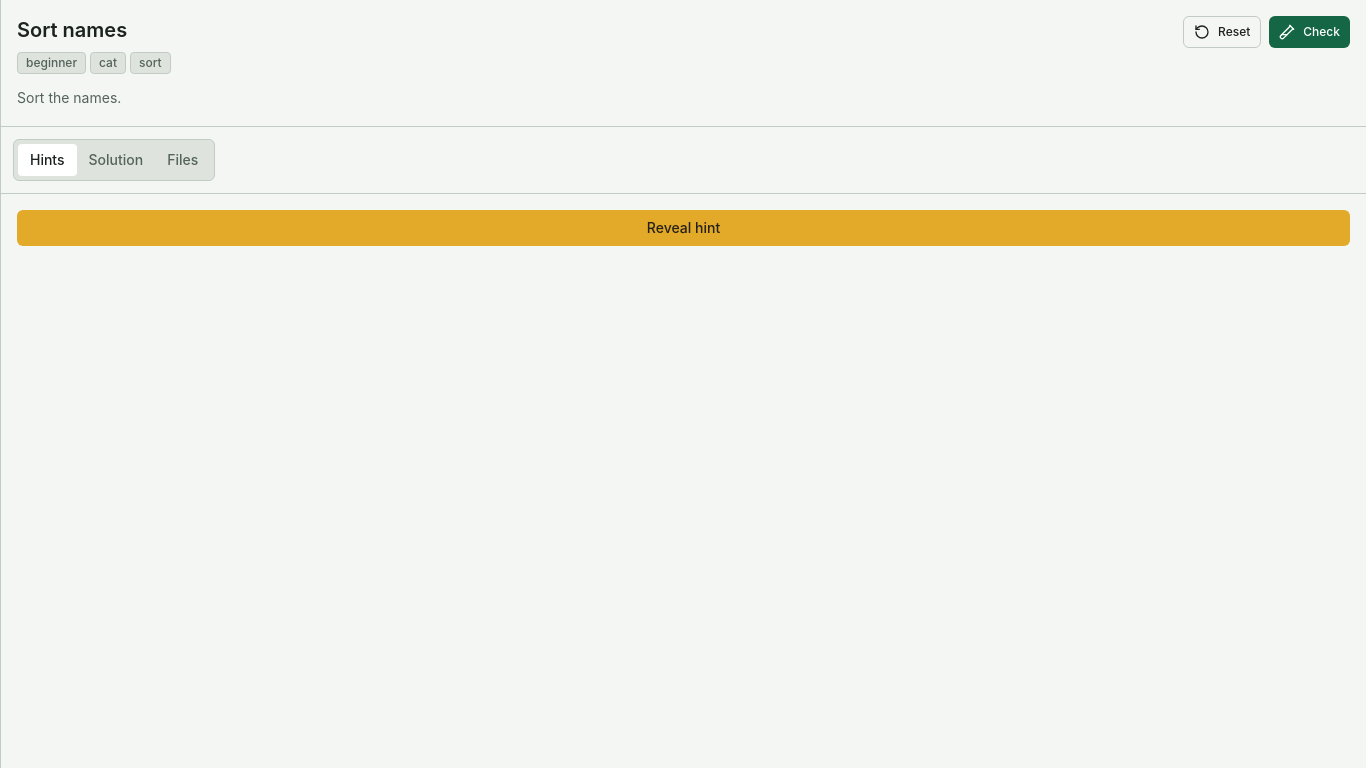
Test: LessonDetail › reveals hints incrementally
This screenshot has width=1366, height=768.
Expected: the text "Use cat first." is not shown
Click the button "Reveal hint" at (684, 228), box x1=17 y1=210 x2=1350 y2=246
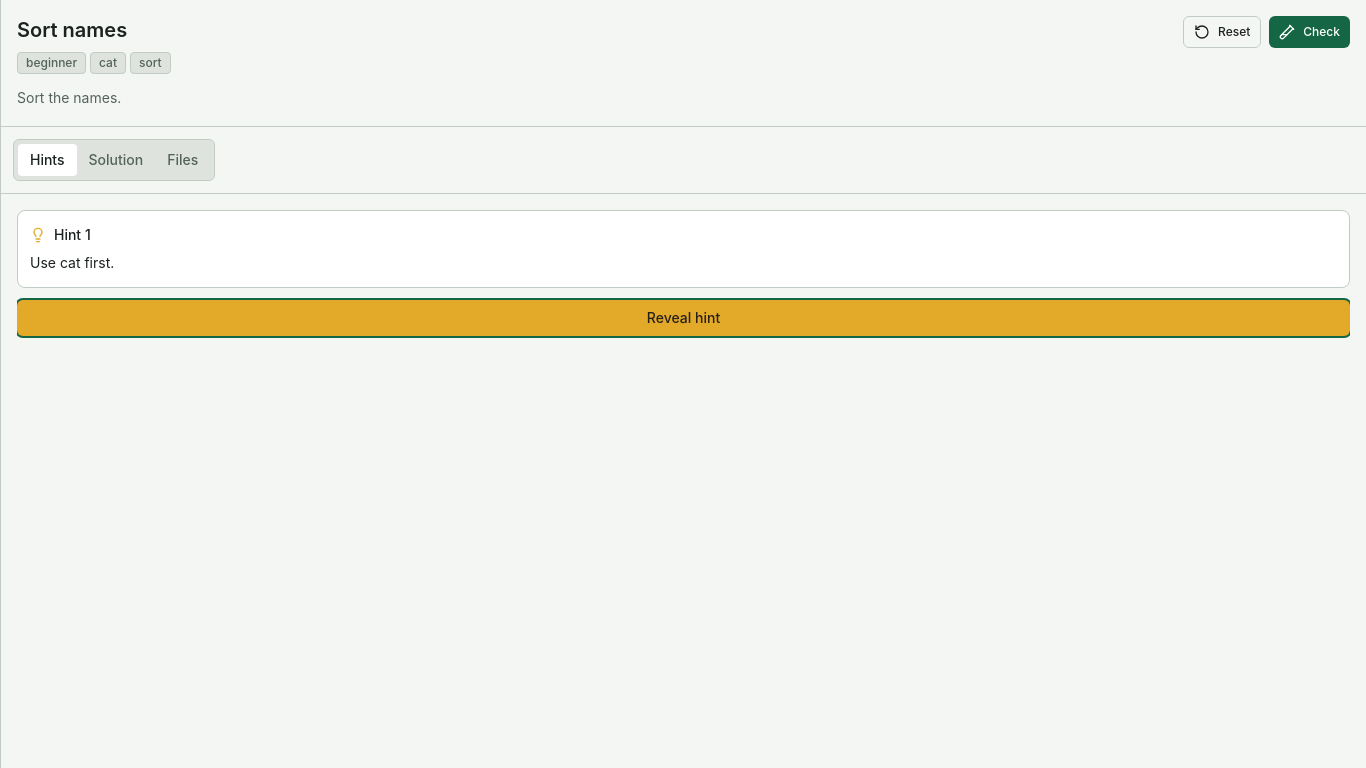
Expected: the text "Pipe into sort." is not shown
Expected: the text "Use cat first." is shown, x1=30 y1=254 x2=114 y2=271
Click the button "Reveal hint" at (684, 318), box x1=17 y1=300 x2=1350 y2=336
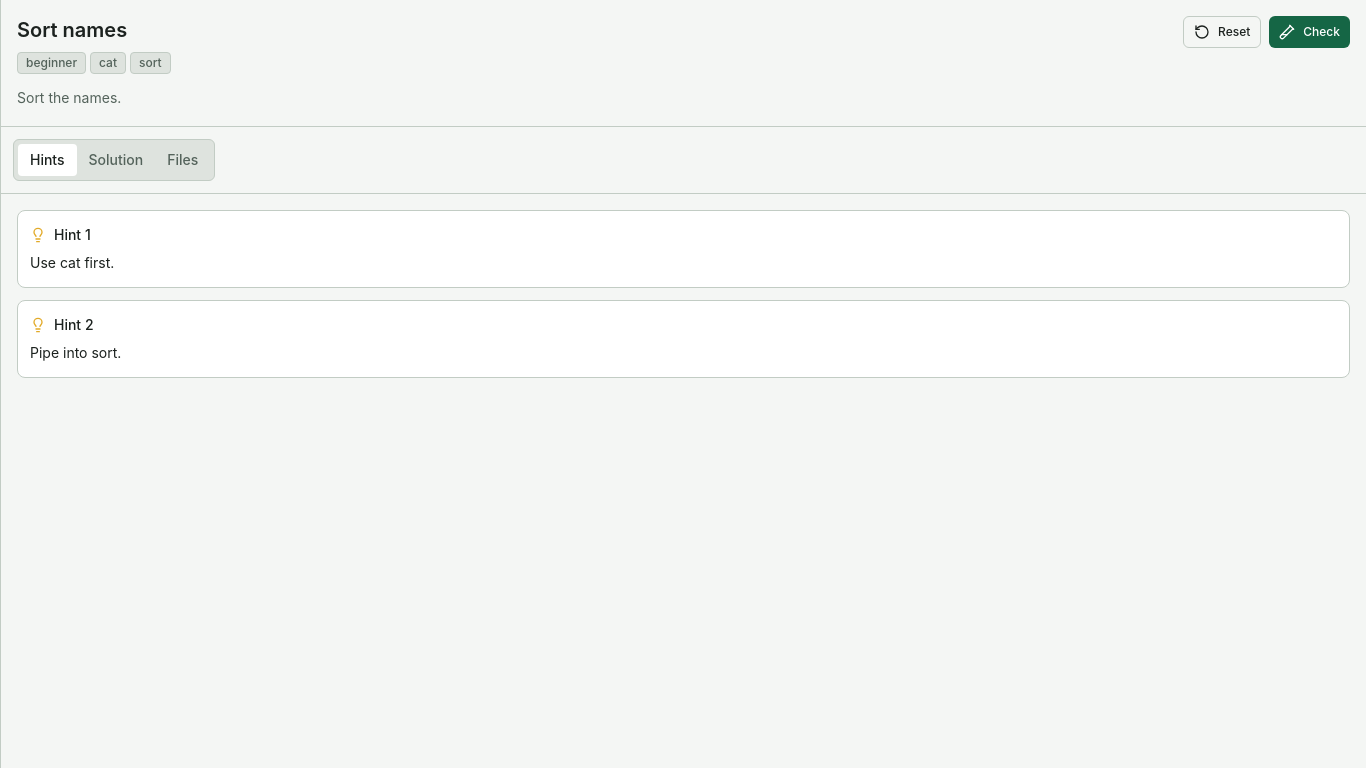
Expected: the text "Pipe into sort." is shown, x1=30 y1=344 x2=121 y2=361
